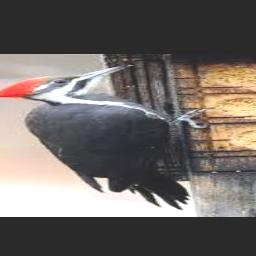Woodpecker: (0, 64, 210, 210)
